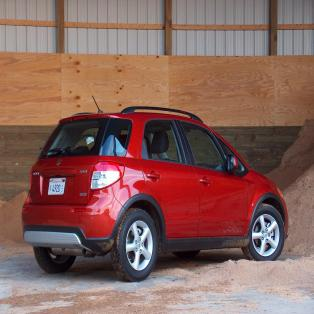Auto: (21, 93, 290, 282)
